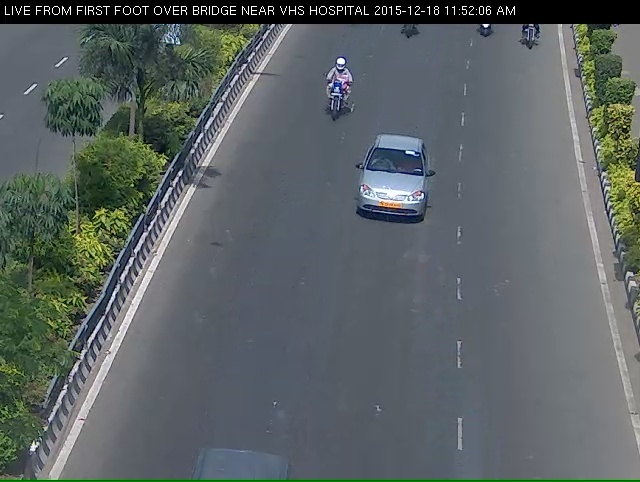Car: (351, 147, 427, 250)
Person: (312, 71, 353, 137)
